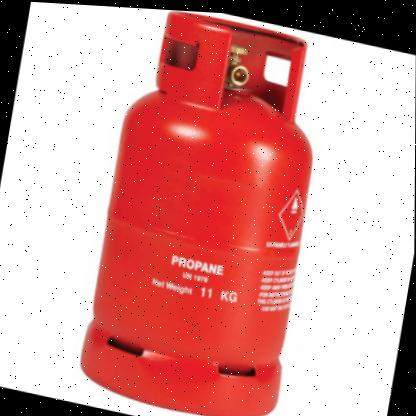gas-tank: (40, 2, 367, 415)
